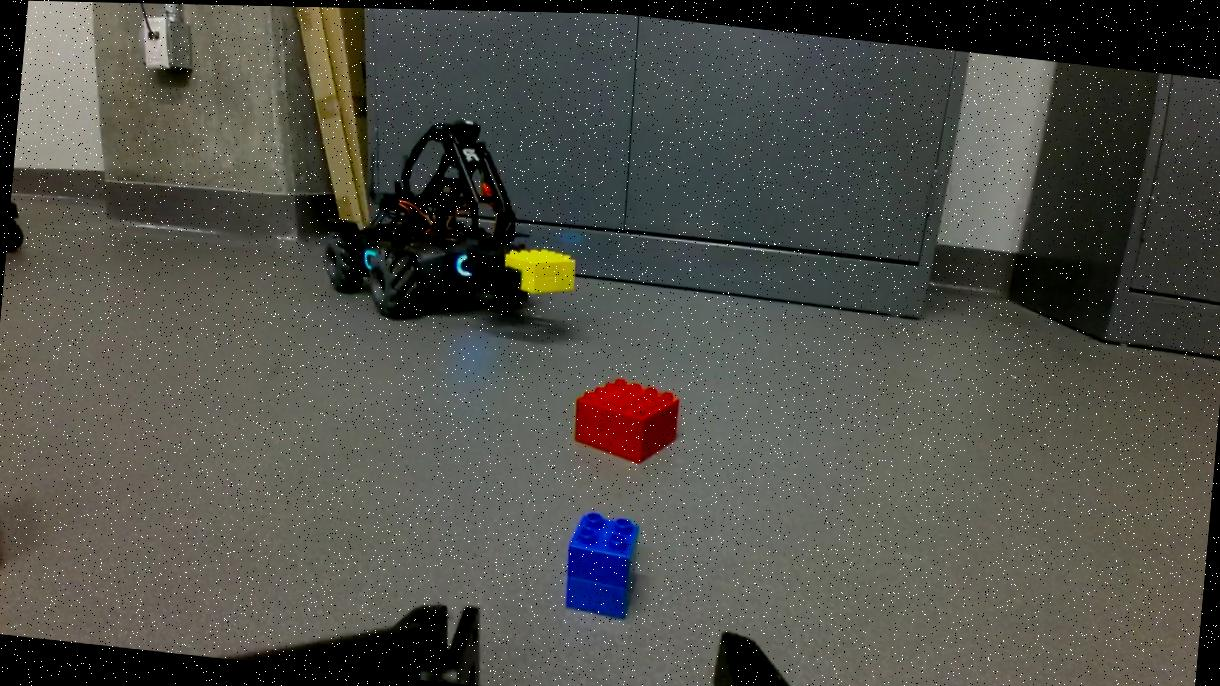2x2lego: (559, 505, 640, 617)
4x4lego: (567, 367, 684, 465)
